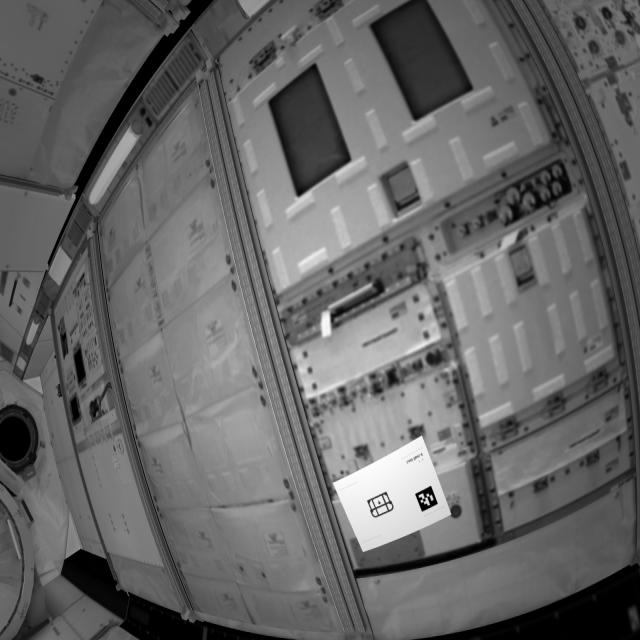treasure_box: (365, 492, 399, 523)
